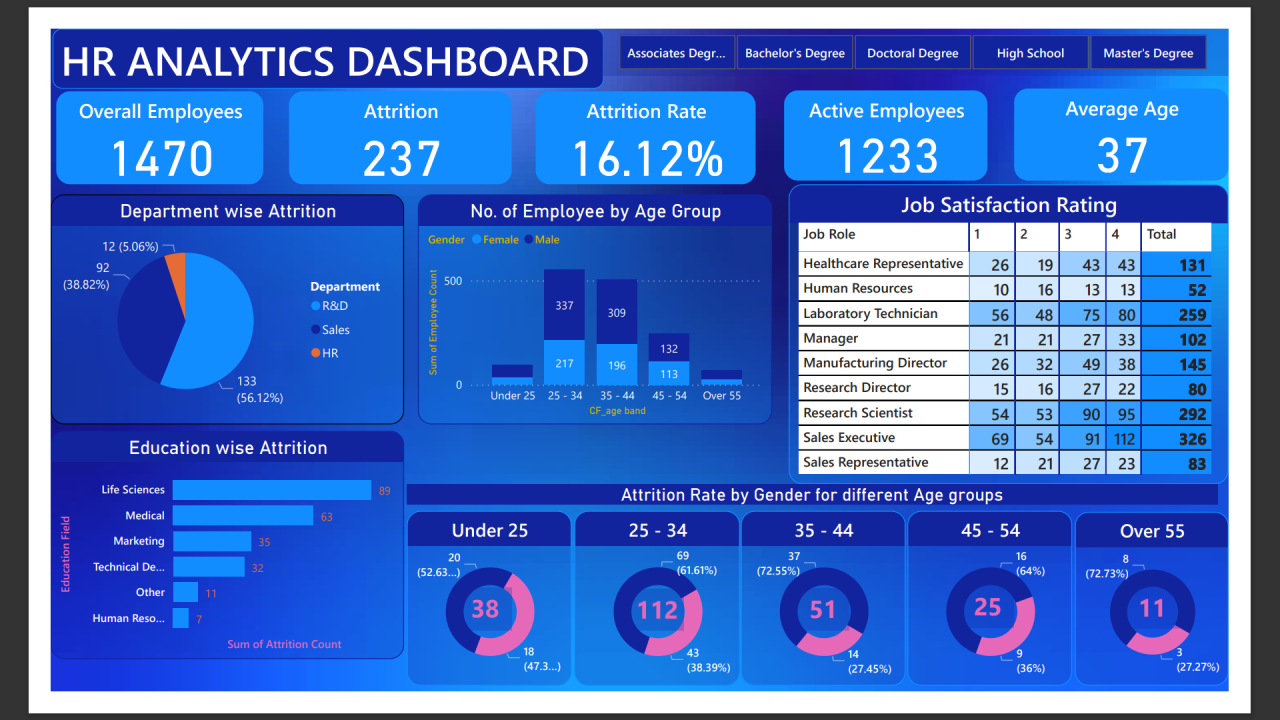

What the dashboard file says about the page in this screenshot:
{"tool":"powerbi","page":{"name":"Page 1","canvas":[1280,720],"ordinal":0},"visuals":[{"type":"card","title":"Overall Employees","fields":{"Values":["Sum(HR data.Employee Count)"]},"box":[6.1,68.1,225.4,101.4],"z":0},{"type":"card","title":"Attrition","fields":{"Values":["Sum(HR data.Attrition Count)"]},"box":[258.7,68.1,242.1,101.4],"z":1000},{"type":"card","title":"Attrition Rate","fields":{"Values":["HR data.Attrition Rate"]},"box":[526.5,68.1,239.1,101.4],"z":2000},{"type":"card","title":"Active Employees","fields":{"Values":["HR data.Active Employees"]},"box":[797.4,66.6,220.9,98.3],"z":3000},{"type":"card","title":"Average Age","fields":{"Values":["Avg(HR data.Age)"]},"box":[1047,65.1,233,99.9],"z":4000},{"type":"pieChart","title":"Department wise Attrition","fields":{"Category":["HR data.Department"],"Y":["Sum(HR data.Attrition Count)"]},"box":[0,180,384.3,249.6],"z":5000},{"type":"columnChart","title":"No. of Employee by Age Group","fields":{"Category":["HR data.CF_age band"],"Y":["Sum(HR data.Employee Count)"],"Series":["HR data.Gender"]},"box":[399.4,180,384.3,249.6],"z":6000},{"type":"pivotTable","title":"Job Satisfaction Rating","fields":{"Rows":["HR data.Job Role"],"Columns":["HR data.Job Satisfaction"],"Values":["Sum(HR data.Employee Count)"]},"box":[801.9,169.5,478.1,325.3],"z":7000},{"type":"barChart","title":"Education wise Attrition","fields":{"Category":["HR data.Education Field"],"Y":["Sum(HR data.Attrition Count)"]},"box":[0,437.3,384.3,248.1],"z":8000},{"type":"donutChart","title":"Under 25","fields":{"Category":["HR data.Gender"],"Y":["Sum(HR data.Attrition Count)"],"Series":["HR data.CF_age band"]},"box":[387.2,523.8,179.2,189.8],"z":9000},{"type":"textbox","title":"Attrition Rate by Gender for different Age groups","box":[387.3,494.8,880.6,22],"z":10000},{"type":"donutChart","title":"25 - 34","fields":{"Category":["HR data.Gender"],"Y":["Sum(HR data.Attrition Count)"],"Series":["HR data.CF_age band"]},"box":[569.4,523.8,179.2,189.8],"z":11000},{"type":"donutChart","title":"35 - 44","fields":{"Category":["HR data.Gender"],"Y":["Sum(HR data.Attrition Count)"],"Series":["HR data.CF_age band"]},"box":[750.1,523.8,179.2,189.8],"z":12000},{"type":"donutChart","title":"45 - 54","fields":{"Category":["HR data.Gender"],"Y":["Sum(HR data.Attrition Count)"],"Series":["HR data.CF_age band"]},"box":[930.8,523.8,179.2,189.8],"z":13000},{"type":"donutChart","title":"Over 55","fields":{"Category":["HR data.Gender"],"Y":["Sum(HR data.Attrition Count)"],"Series":["HR data.CF_age band"]},"box":[1113,525.4,167,188.3],"z":14000},{"type":"card","fields":{"Values":["Sum(HR data.Attrition Count)"]},"box":[443.3,606.7,57.5,46.9],"z":15000},{"type":"card","fields":{"Values":["Sum(HR data.Attrition Count)"]},"box":[630.1,608.9,57.7,45.6],"z":16000},{"type":"card","fields":{"Values":["Sum(HR data.Attrition Count)"]},"box":[811,608.2,57.5,45.4],"z":17000},{"type":"card","fields":{"Values":["Sum(HR data.Attrition Count)"]},"box":[989.5,605.2,57.5,45.4],"z":18000},{"type":"card","fields":{"Values":["Sum(HR data.Attrition Count)"]},"box":[1168,606.7,57.5,45.4],"z":19000},{"type":"textbox","title":"HR ANALYTICS DASHBOARD","box":[1.5,0,599.1,65.1],"z":20000},{"type":"slicer","fields":{"Values":["HR data.Education"]},"box":[591.6,0,688.4,51.4],"z":21000}]}

Visuals, with their boxes in screenshot pixels (x1, y1, x2, y2), scaled from the page's 1280x720 canvas onto the 1280x720 screenshot:
"Overall Employees" card: detection(6, 68, 232, 170)
"Attrition" card: detection(259, 68, 501, 170)
"Attrition Rate" card: detection(526, 68, 766, 170)
"Active Employees" card: detection(797, 67, 1018, 165)
"Average Age" card: detection(1047, 65, 1279, 165)
"Department wise Attrition" pieChart: detection(0, 180, 384, 430)
"No. of Employee by Age Group" columnChart: detection(399, 180, 784, 430)
"Job Satisfaction Rating" pivotTable: detection(802, 170, 1279, 495)
"Education wise Attrition" barChart: detection(0, 437, 384, 685)
"Under 25" donutChart: detection(387, 524, 566, 714)
"Attrition Rate by Gender for different Age groups" textbox: detection(387, 495, 1268, 517)
"25 - 34" donutChart: detection(569, 524, 749, 714)
"35 - 44" donutChart: detection(750, 524, 929, 714)
"45 - 54" donutChart: detection(931, 524, 1110, 714)
"Over 55" donutChart: detection(1113, 525, 1279, 714)
card - Sum(HR data.Attrition Count): detection(443, 607, 501, 654)
card - Sum(HR data.Attrition Count): detection(630, 609, 688, 654)
card - Sum(HR data.Attrition Count): detection(811, 608, 868, 654)
card - Sum(HR data.Attrition Count): detection(990, 605, 1047, 651)
card - Sum(HR data.Attrition Count): detection(1168, 607, 1226, 652)
"HR ANALYTICS DASHBOARD" textbox: detection(2, 0, 601, 65)
slicer - HR data.Education: detection(592, 0, 1279, 51)
